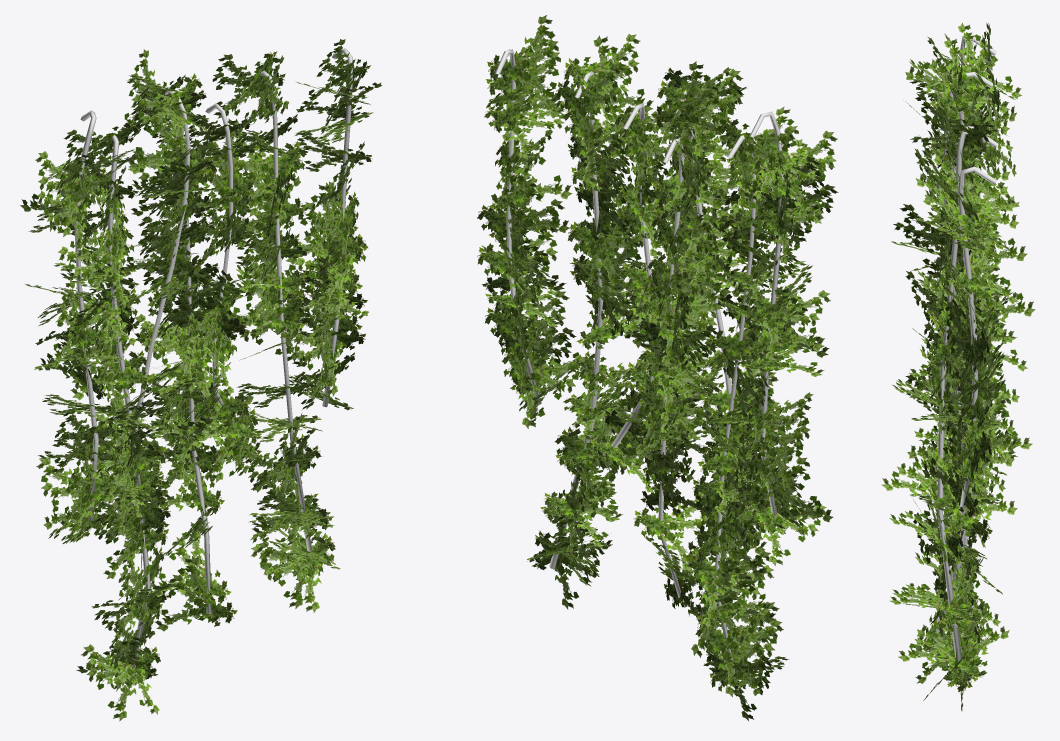
File: Vines.fbx
3 renders of one model, left to right at view 1: azimuth 30°, elevation 25°; view 2: azimuth 150°, elevation 25°; view 3: azimuth 270°, elevation 25°, orthographic. The views are drawn at different scales.
Visible parts, largest first — view 1: Vines; view 2: Vines; view 3: Vines.
Boxes of the visible parts, <box> form: Vines: <box>20,39,381,721</box>; Vines: <box>477,15,838,720</box>; Vines: <box>881,22,1035,711</box>.
Bounding box in the file's own units: 187 × 318 × 69.39.
